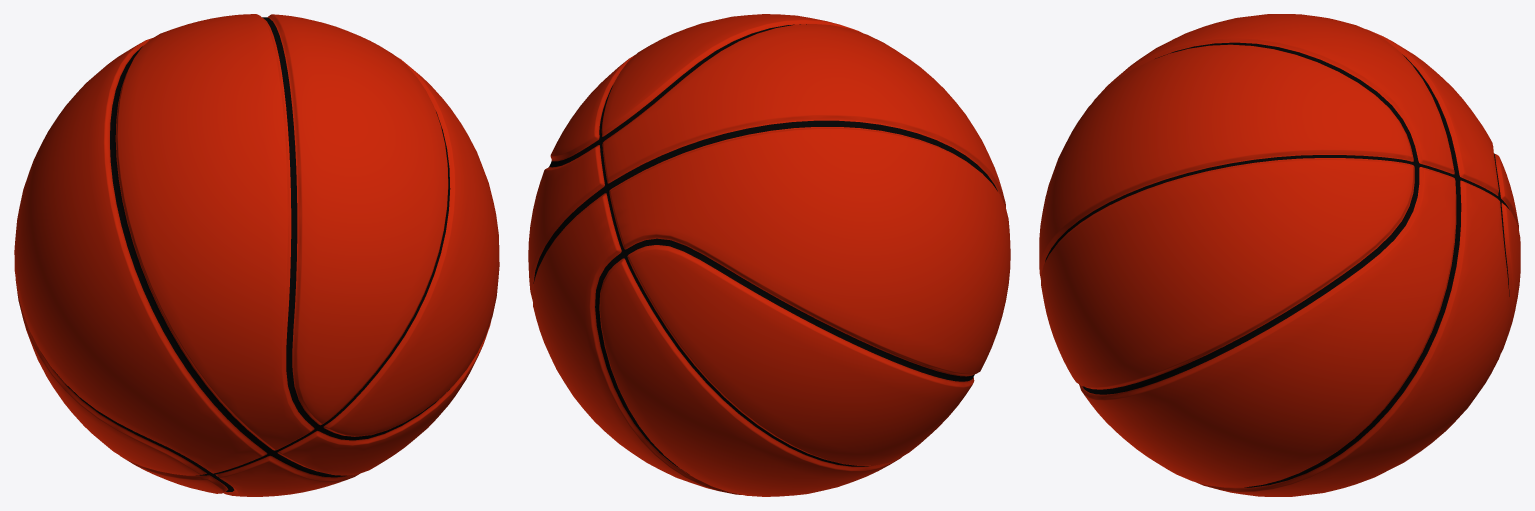
File: Bas-ball.FBX
3 views of the same model, side by side, from view 1: azimuth 30°, elevation 25°; view 2: azimuth 150°, elevation 25°; view 3: azimuth 270°, elevation 25° (orthographic).
Parts seen in each view (by area): view 1: Bass-ball; view 2: Bass-ball; view 3: Bass-ball.
Boxes of the visible parts, bbox=[...] form: Bass-ball: bbox=[14, 14, 499, 496]; Bass-ball: bbox=[528, 14, 1010, 496]; Bass-ball: bbox=[1039, 14, 1520, 496].
Size of the model in its own units: 15.58 by 15.59 by 15.52.
